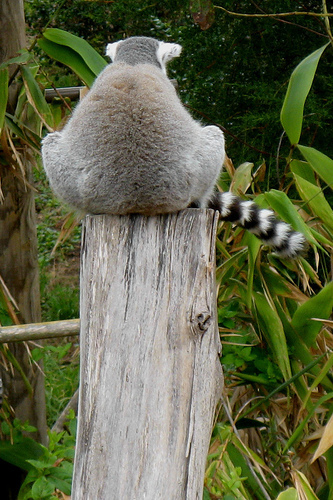cat: (10, 18, 320, 308)
